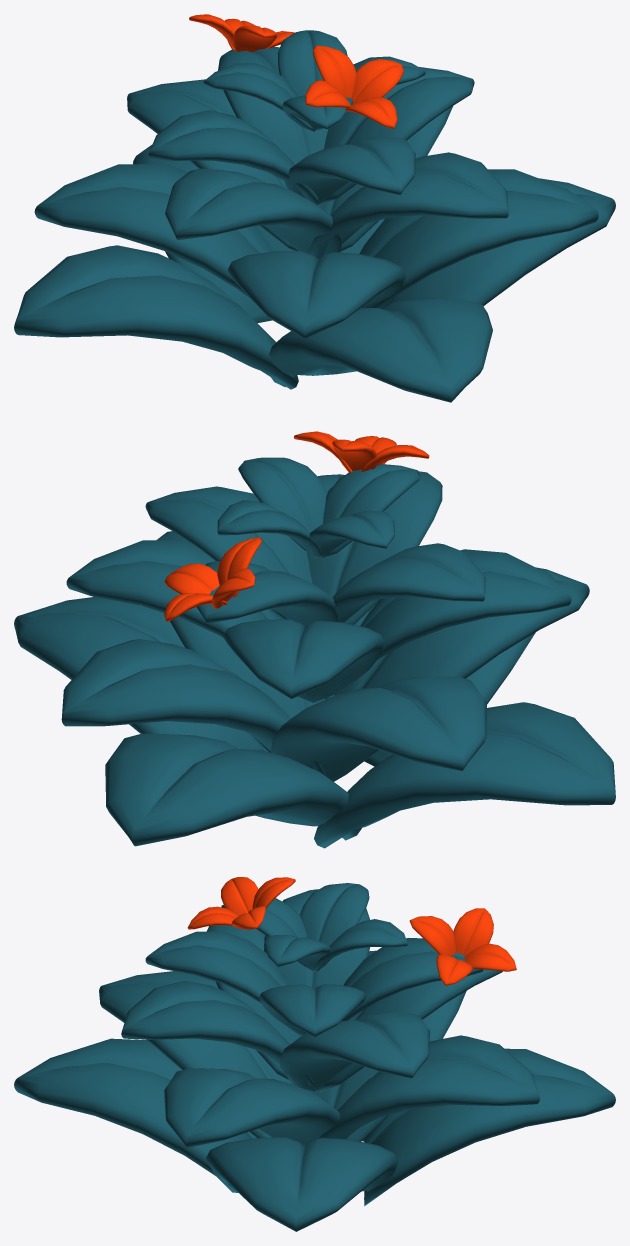
File: Warp.FBX
3 renders of one model, top to bottom at view 1: azimuth 30°, elevation 25°; view 2: azimuth 150°, elevation 25°; view 3: azimuth 270°, elevation 25°, orthographic. The views are drawn at different scales.
Parts seen in each view (by area): view 1: Box012, Box015, Box016; view 2: Box012, Box016, Box015; view 3: Box012, Box016, Box015.
Boxes of the visible parts, x1,y1,x2,y2 form: Box012: (14, 30, 615, 402); Box015: (305, 45, 403, 128); Box016: (189, 14, 294, 52); Box012: (14, 457, 615, 848); Box016: (164, 537, 261, 621); Box015: (293, 431, 429, 472); Box012: (14, 883, 615, 1231); Box016: (409, 908, 516, 985); Box015: (187, 877, 295, 929).
Size of the model in its own units: 3.93 by 2.1 by 3.9.
